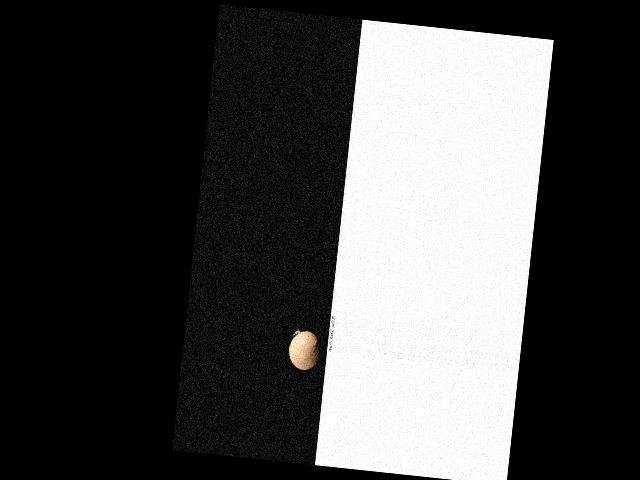egg: (287, 330, 322, 372)
